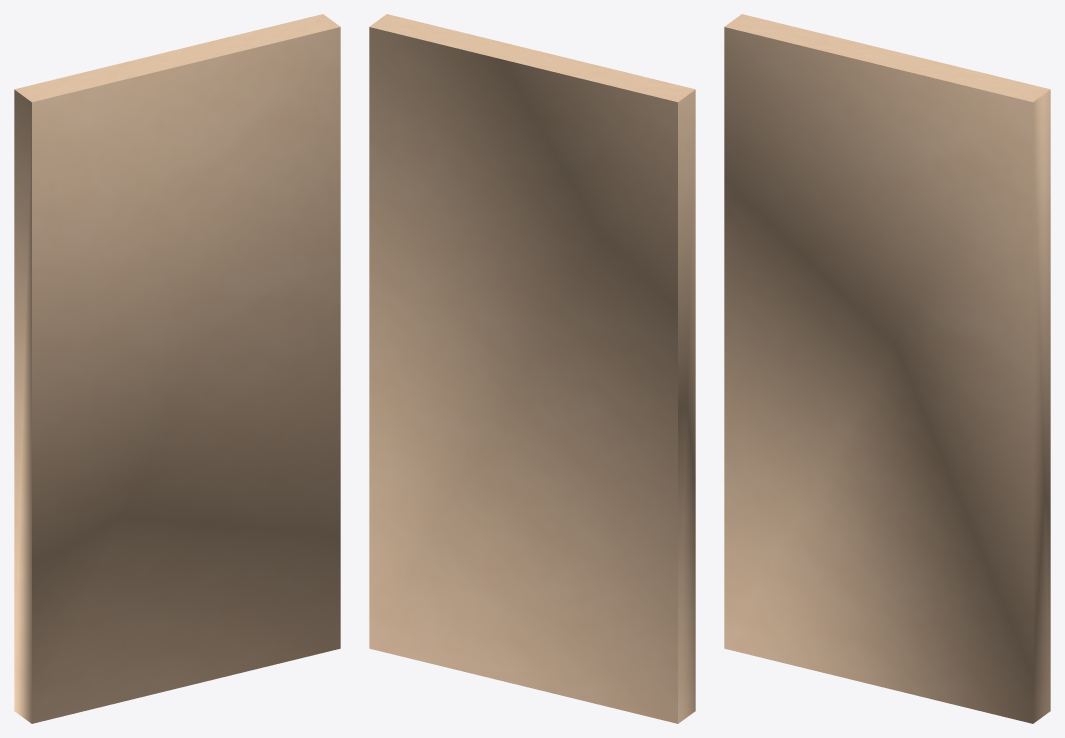
File: Door_Panel_A.fbx
3 renders of one model, left to right at view 1: azimuth 30°, elevation 25°; view 2: azimuth 150°, elevation 25°; view 3: azimuth 330°, elevation 25°, orthographic.
Visible parts, largest first — view 1: Door_Panel_A; view 2: Door_Panel_A; view 3: Door_Panel_A.
Boxes of the visible parts, box(x1,y1,x2,y2) form: Door_Panel_A: box(14, 14, 340, 723); Door_Panel_A: box(369, 14, 695, 723); Door_Panel_A: box(724, 14, 1050, 723).
Size of the model in its own units: 1.01 by 1.94 by 0.1.
1 material, 1 textured.
